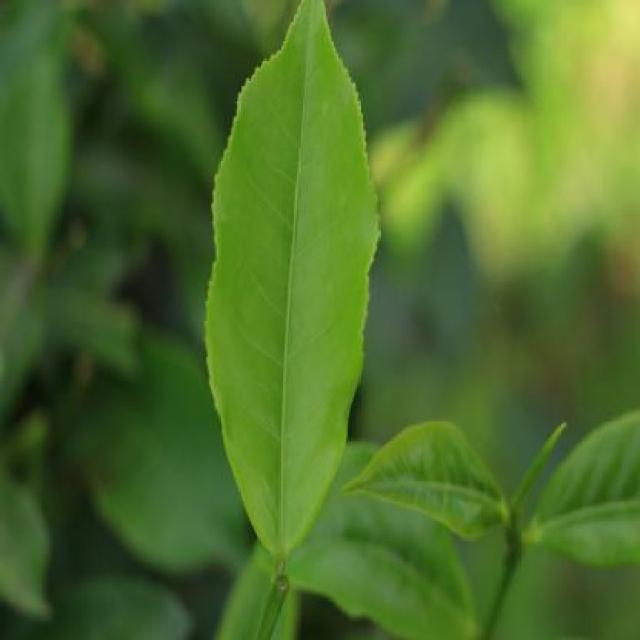Tea leaf: (202, 8, 389, 577)
